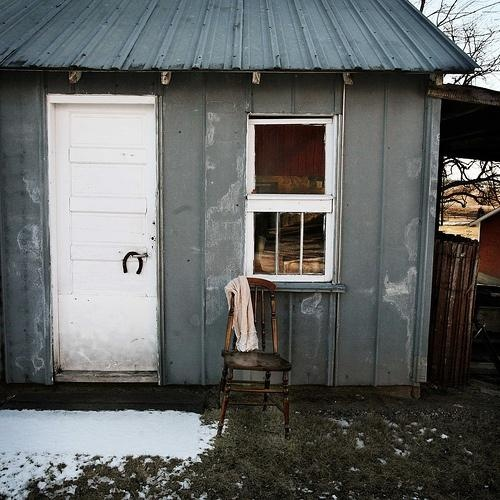chair: (213, 274, 301, 440)
